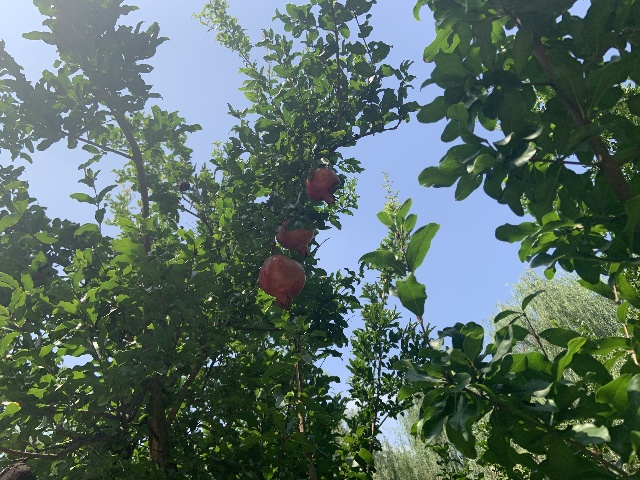ripe: (258, 254, 305, 307), (275, 218, 314, 258), (304, 167, 339, 205)
